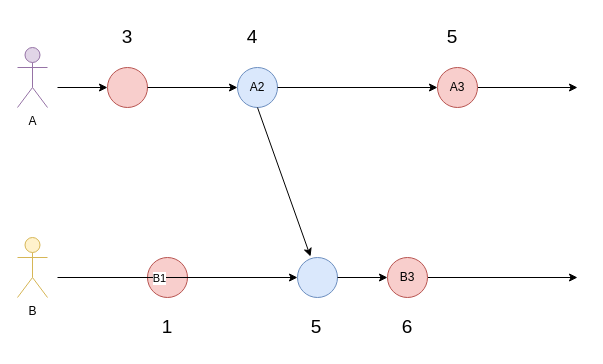
Image size: 603x364. Some labels were removed from this diagram. Each missing label, with the box of its shape:
A1: (106, 66, 148, 108)
B2: (296, 256, 338, 298)
